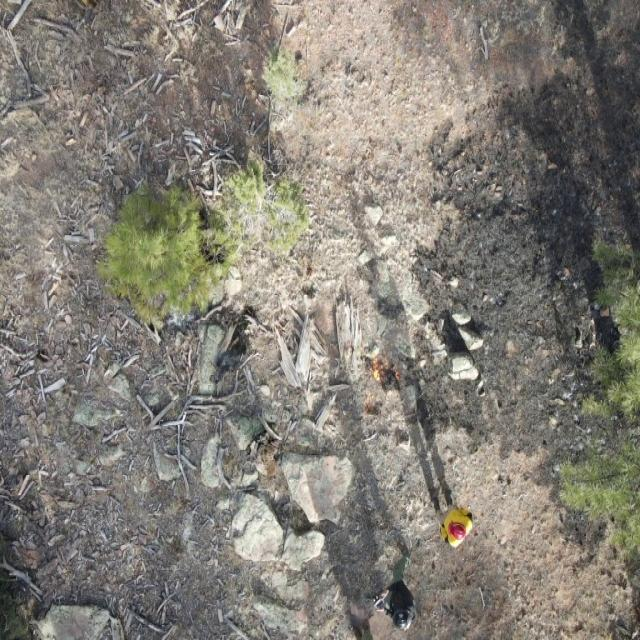fire: (358, 354, 404, 394), (363, 404, 373, 417)
